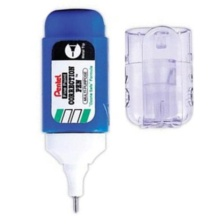correction_fluid: (38, 5, 112, 217)
